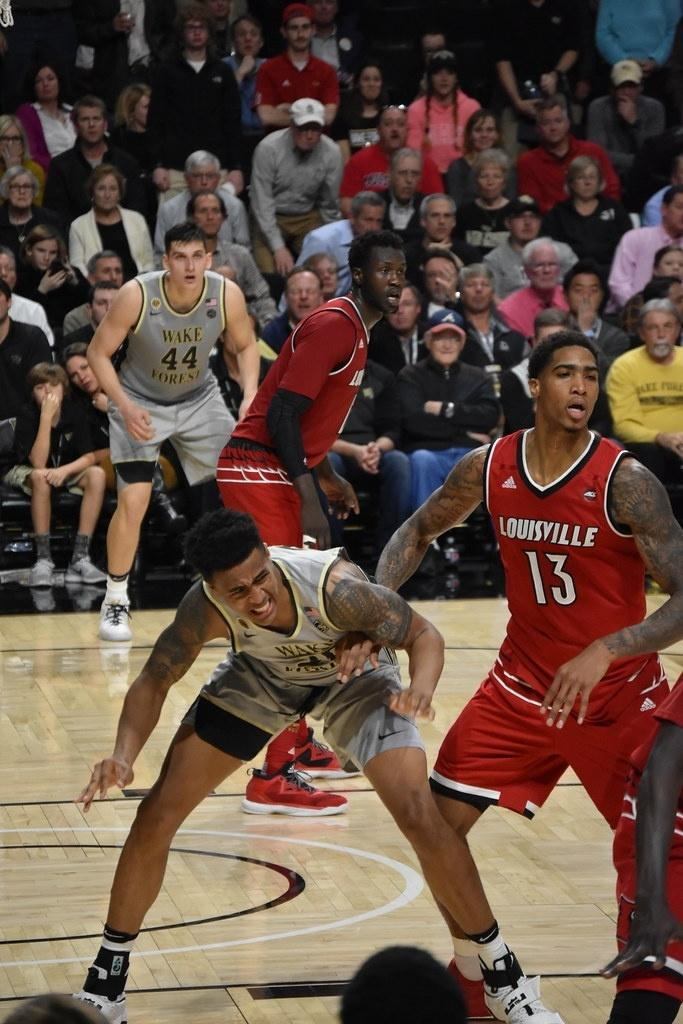basketball-player: (69, 506, 564, 1022), (346, 328, 681, 1020), (203, 244, 488, 725), (84, 208, 302, 681)
